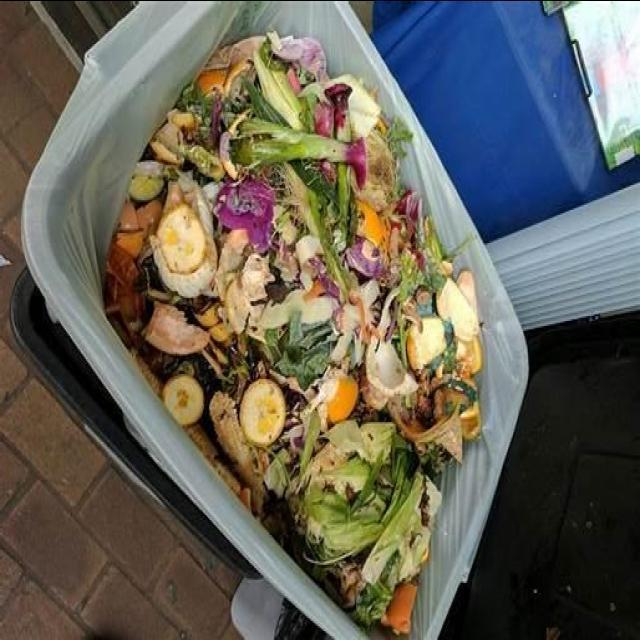Garbage: (102, 12, 500, 640)
